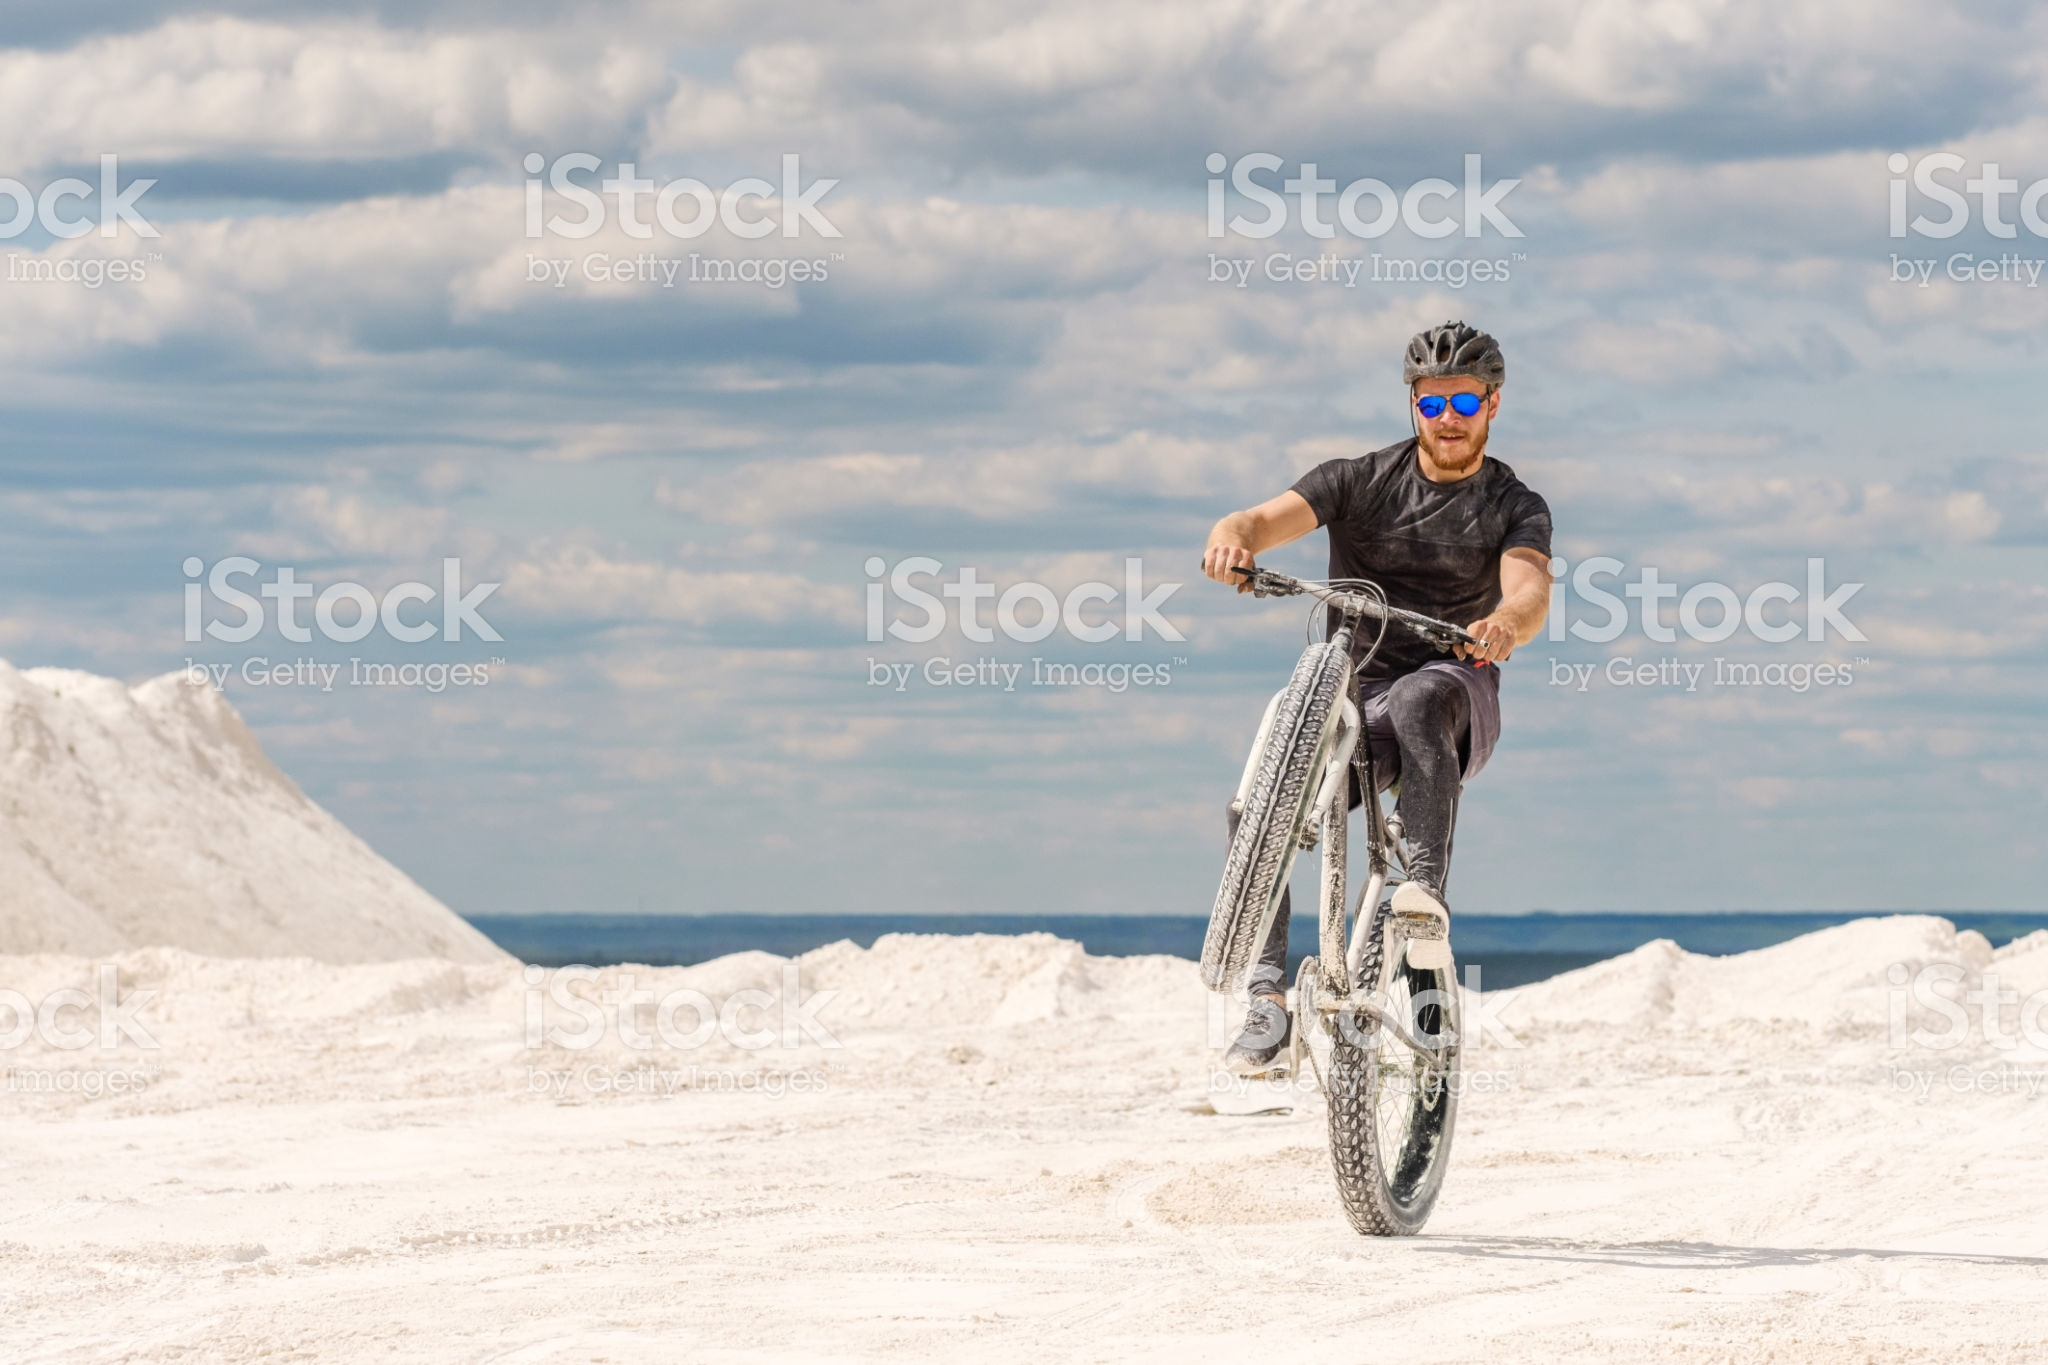helmet: (1373, 306, 1506, 401)
